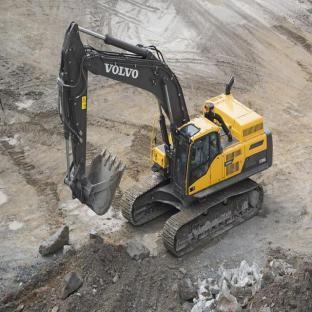ExcavationMachinery: (12, 34, 292, 263)
